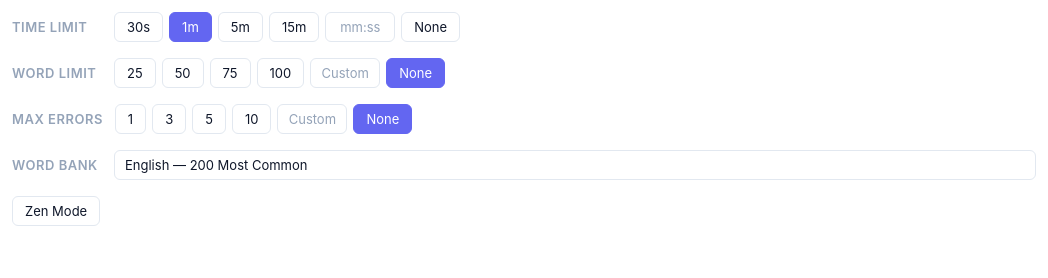
TestConfigOptions › shows all word banks in the dropdown when opened without typing
The image size is (1048, 278).
Click the field named "Search word banks" at (575, 165), box x1=114 y1=150 x2=1036 y2=180
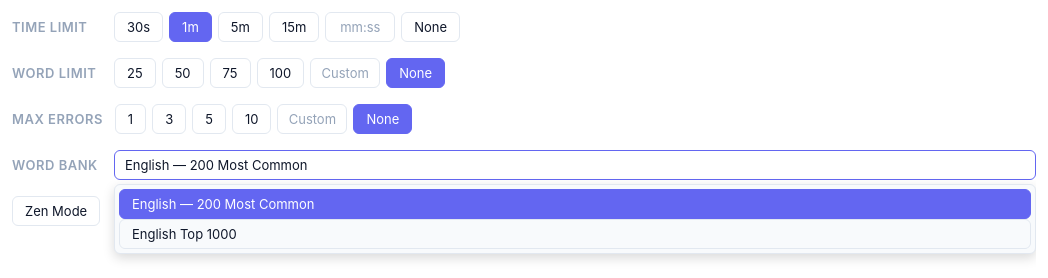
Expected: the option "English Top 1000" is shown, x1=119 y1=219 x2=1031 y2=249
